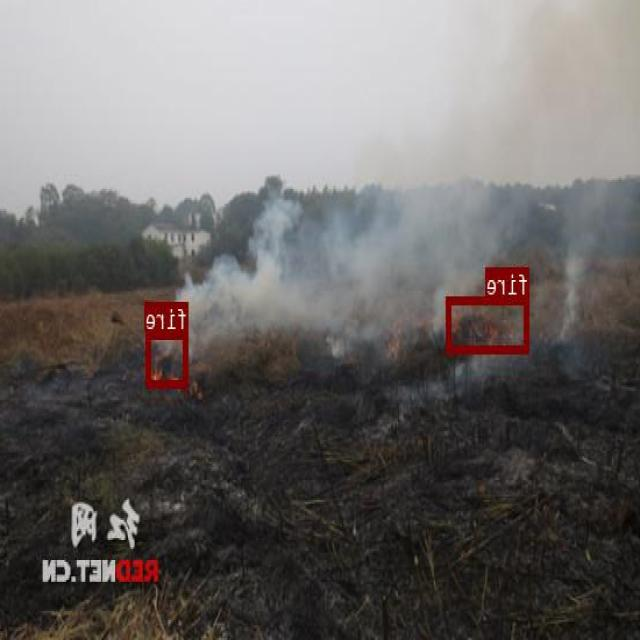fire: (447, 295, 530, 351), (147, 330, 189, 387)
